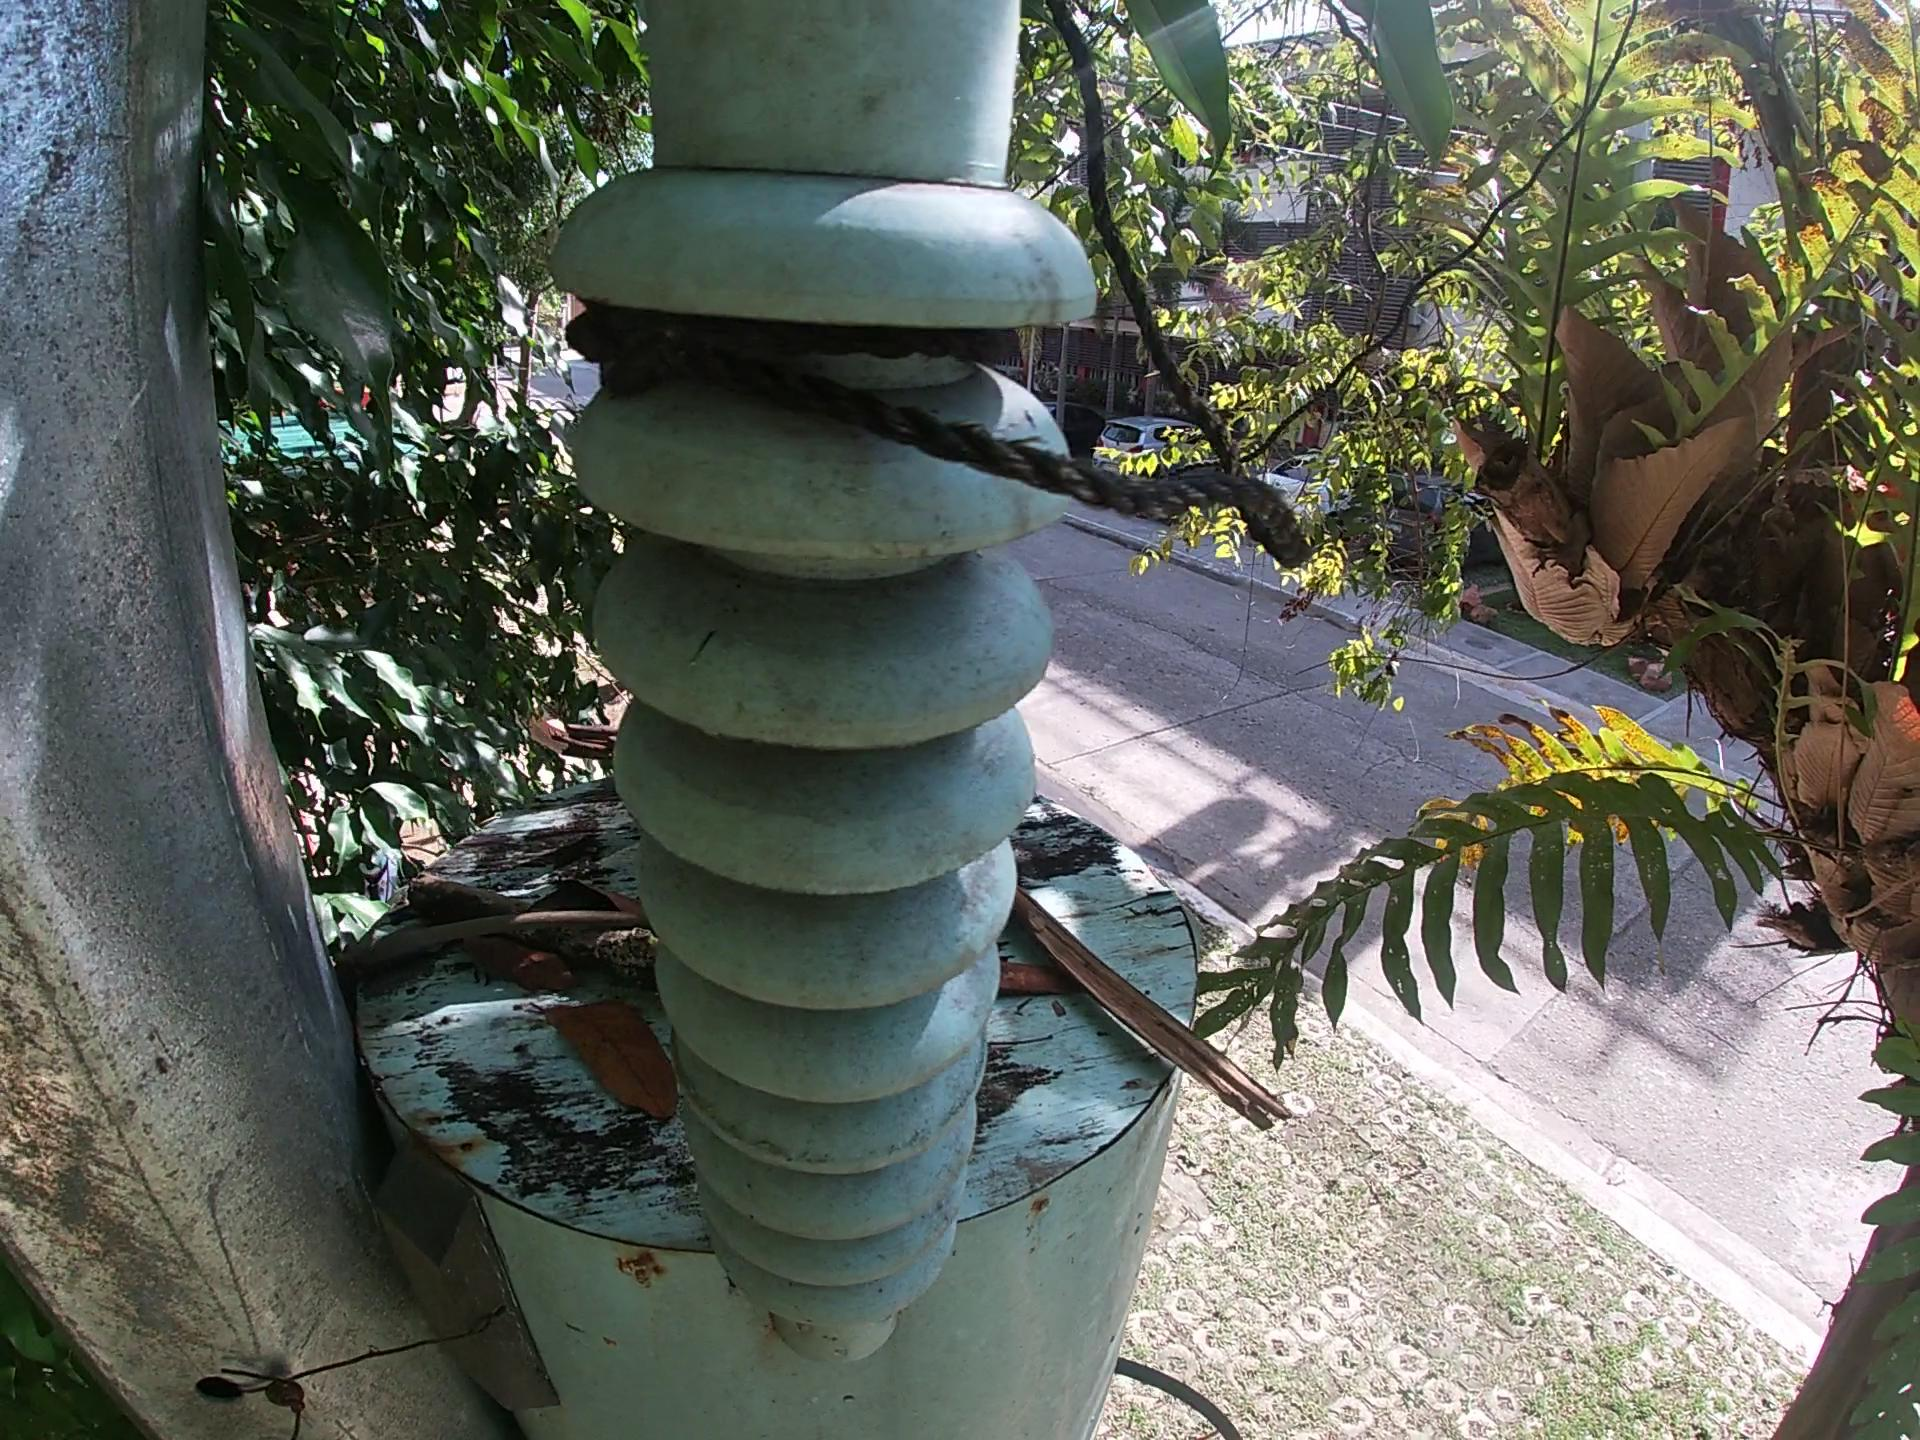leaf: (528, 995, 686, 1125), (457, 933, 579, 995), (516, 877, 649, 920)
mahogany fruit: (995, 959, 1084, 1007)
tree branch: (1005, 883, 1296, 1141), (402, 874, 664, 985), (327, 905, 655, 979)
